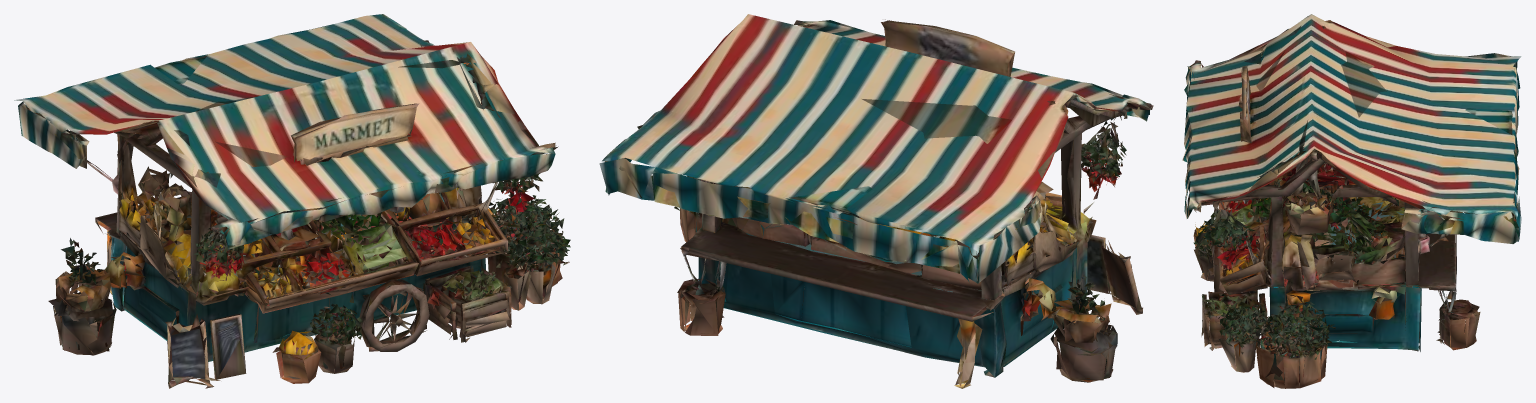
File: Farmers_Market_Cart_town.glb
3 views of the same model, side by side, from view 1: azimuth 30°, elevation 25°; view 2: azimuth 150°, elevation 25°; view 3: azimuth 270°, elevation 25° (orthographic). The views are drawn at different scales.
Visible parts, largest first — view 1: Farmers_Market_Cart; view 2: Farmers_Market_Cart; view 3: Farmers_Market_Cart.
Part boxes in pixels (x1,y1,x2,y2): Farmers_Market_Cart: [14, 14, 570, 388]; Farmers_Market_Cart: [599, 14, 1153, 388]; Farmers_Market_Cart: [1182, 14, 1521, 388].
Size of the model in its own units: 1.89 by 0.9446 by 1.36.
Materials: 1 (1 with a texture image).
